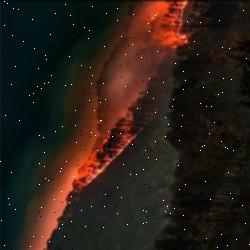fire: (56, 105, 150, 191), (127, 0, 203, 62)
